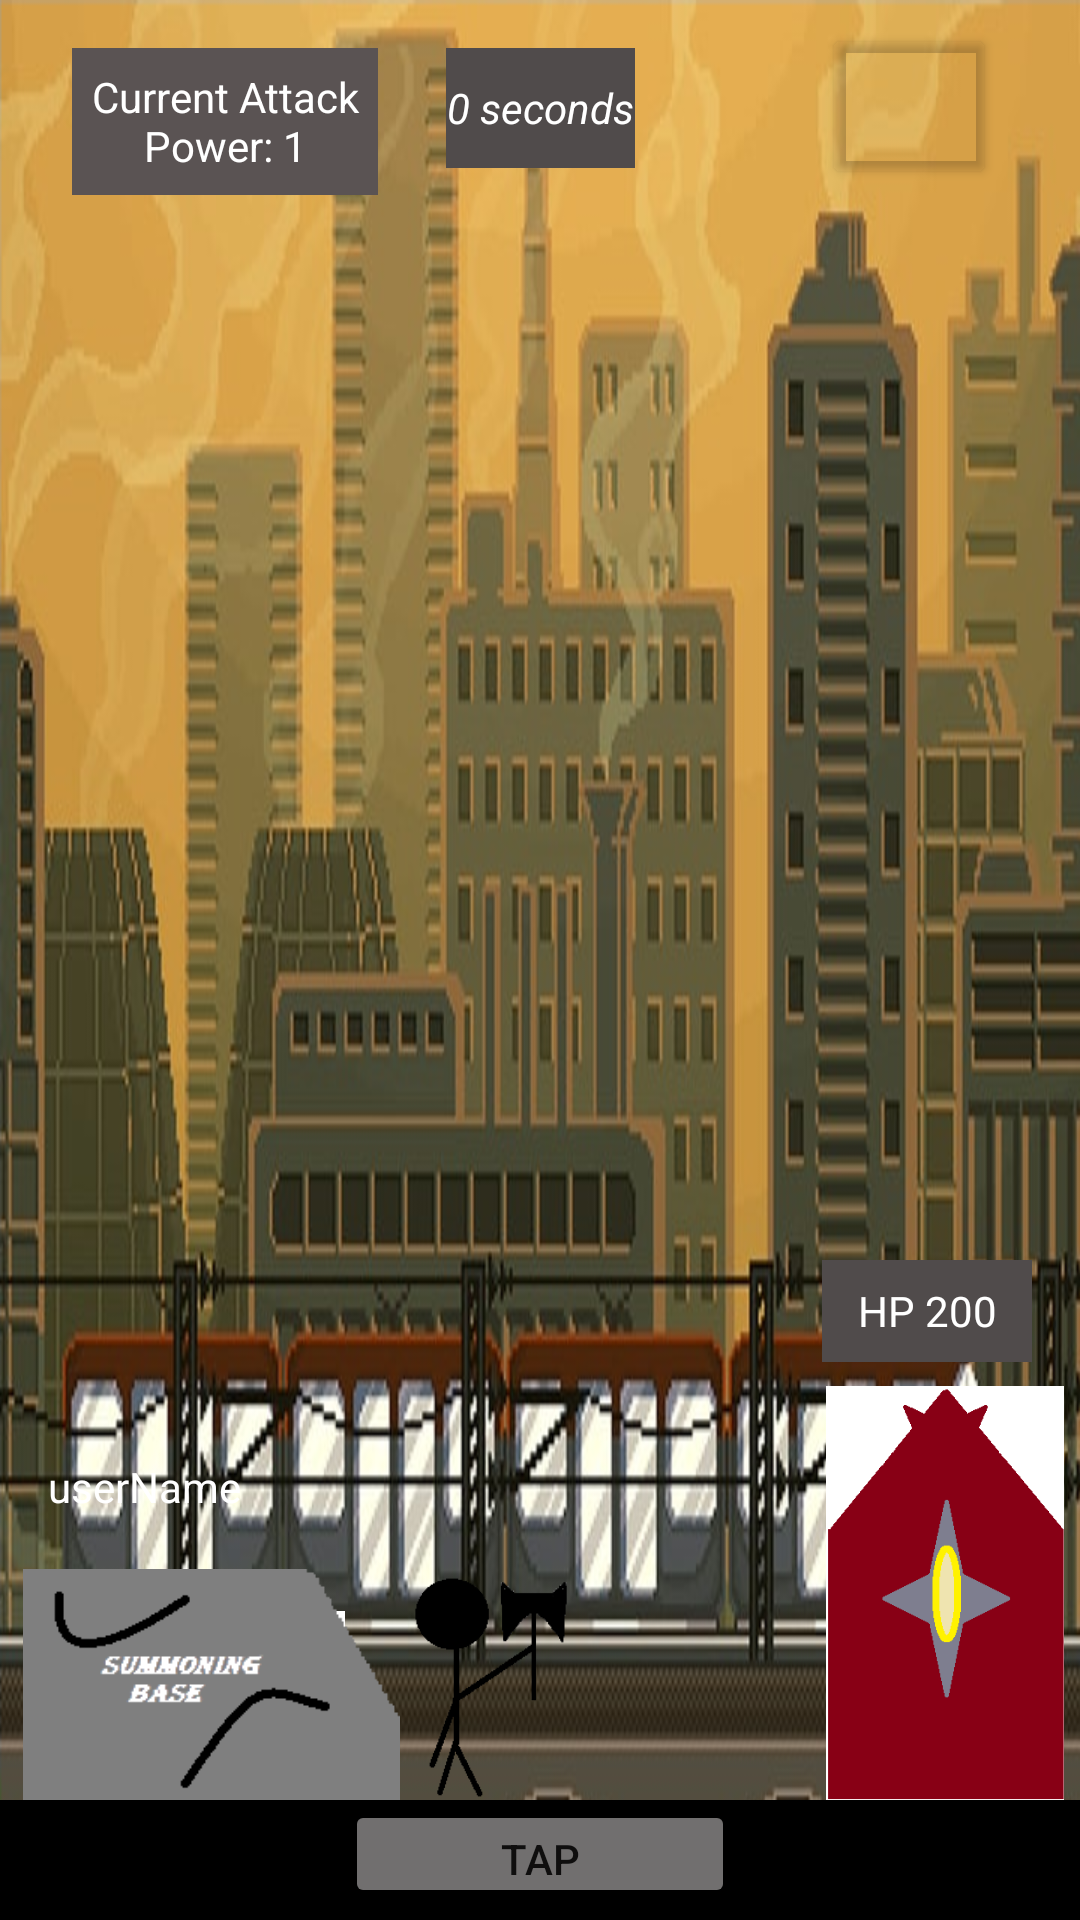

Screen size 1080*1920. Icon name, then its center in pixels as (x,y):
warrior: (490,1687)
